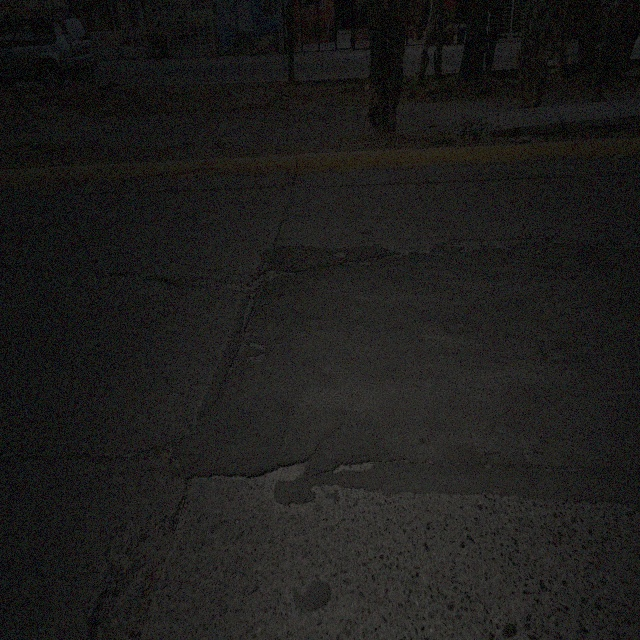pothole: (86, 502, 185, 637), (253, 457, 308, 491), (249, 264, 295, 300), (136, 436, 173, 466), (164, 272, 208, 292), (334, 456, 377, 474), (247, 336, 267, 366), (358, 254, 373, 267)
